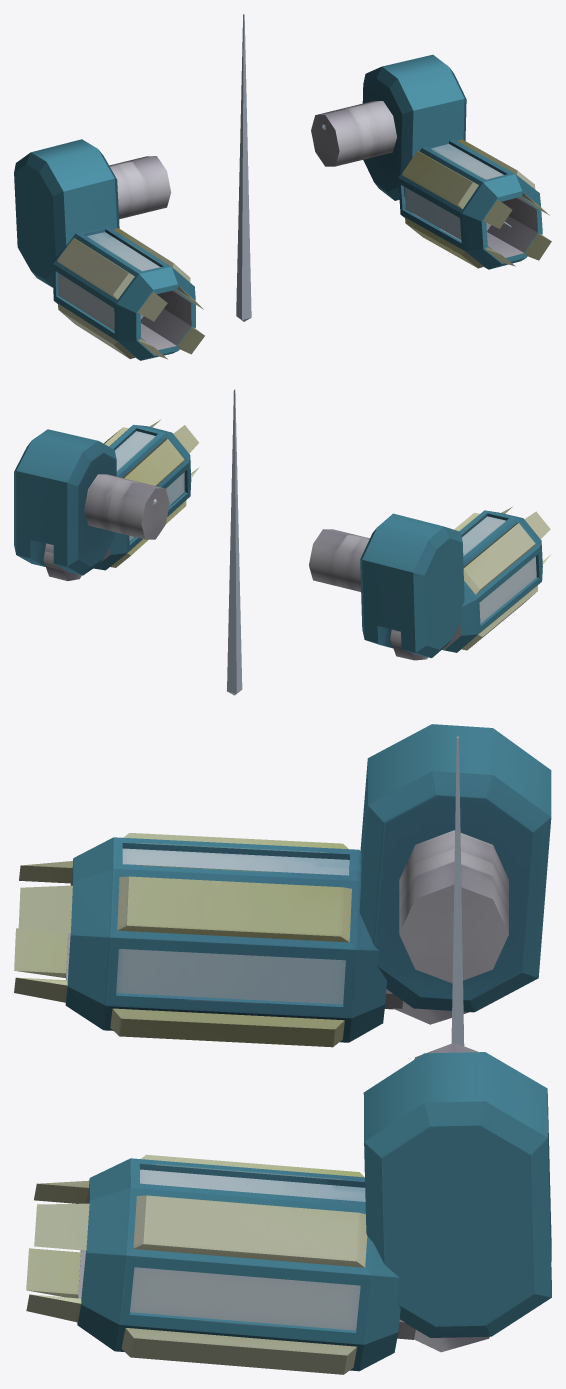
The model's file is player_arm3.obj.
3 renders of one model, top to bottom at view 1: azimuth 30°, elevation 25°; view 2: azimuth 150°, elevation 25°; view 3: azimuth 270°, elevation 25°, orthographic. The views are drawn at different scales.
Parts seen in each view (by area): view 1: Object009, Object010, Object007, Object008, Object005, Object006, Bone001; view 2: Object007, Object008, Object009, Object010, Object005, Bone001, Object006; view 3: Object009, Object010, Object008, Object007, Object006, Bone001.
Boxes of the visible parts, <box> form: Object009: <box>53,226,204,360</box>; Object010: <box>398,139,551,269</box>; Object007: <box>14,139,119,287</box>; Object008: <box>362,54,466,200</box>; Object005: <box>311,101,396,166</box>; Object006: <box>109,156,171,219</box>; Bone001: <box>236,14,251,321</box>; Object007: <box>360,513,464,658</box>; Object008: <box>14,429,116,575</box>; Object009: <box>390,506,551,660</box>; Object010: <box>43,419,199,581</box>; Object005: <box>84,474,169,539</box>; Bone001: <box>227,389,242,695</box>; Object006: <box>309,529,369,591</box>; Object009: <box>14,833,469,1047</box>; Object010: <box>26,1154,489,1374</box>; Object008: <box>363,1052,551,1337</box>; Object007: <box>359,724,551,1012</box>; Object006: <box>399,830,508,983</box>; Bone001: <box>451,736,464,1045</box>.
Bounding box in the file's own units: 175 × 120 × 98.68.
2 materials, 1 textured.
